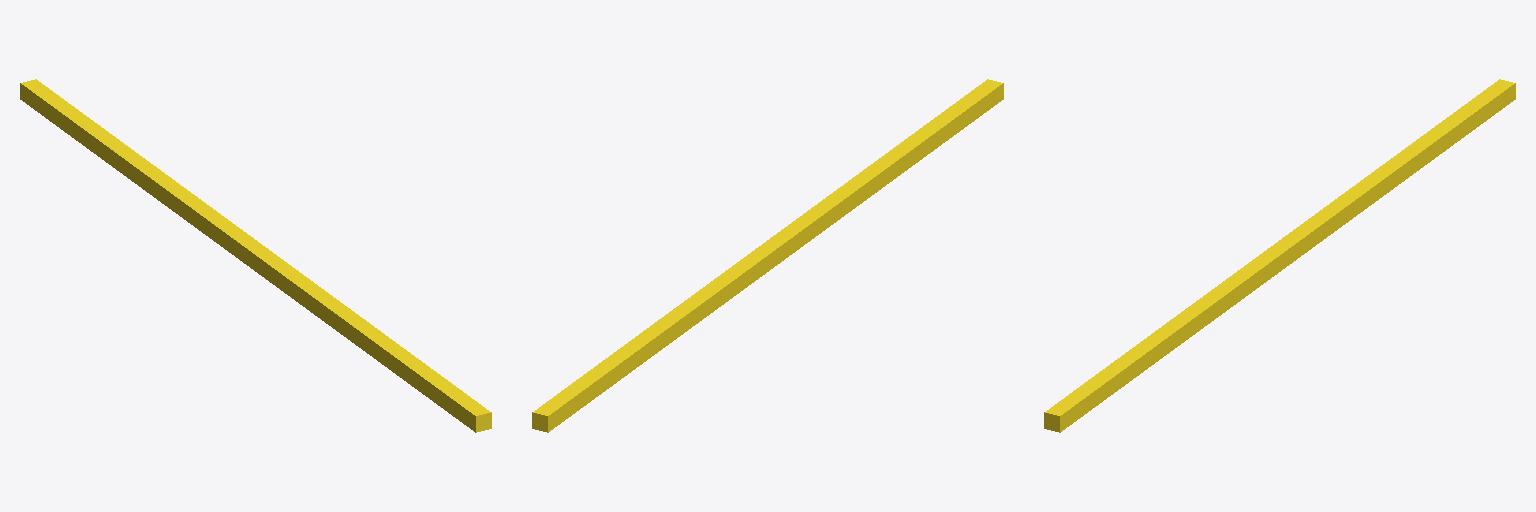
The robot description file, URDF, robot "urdf_robot":
<?xml version="1.0" ?>
<robot name="urdf_robot">
  <material name="yellow">
    <color rgba="1.0 0.9 0.2 1"/>
  </material>
  
  <link name="base_link">
    <inertial>
      <mass value="0"/>
      <inertia ixx="1" ixy="0" ixz="0" iyy="1" iyz="0" izz="1"/>
    </inertial>
    <visual>
      <geometry>
        <box size="0.05 2.5 0.05"/>
      </geometry>
      <material name="yellow"/>
    </visual>
  </link>
</robot>

--- Facts derived from the render (not from the file) ---
The picture shows the robot from 3 angles, left to right: view 1: azimuth 30°, elevation 25°; view 2: azimuth 150°, elevation 25°; view 3: azimuth 330°, elevation 25°; orthographic projection.
Robot: urdf_robot — 1 links, 0 joints (none); root link base_link; default pose: all joints at 0.
Links seen in each view (by area): view 1: base_link; view 2: base_link; view 3: base_link.
Boxes of the visible links, bbox=[...] form: base_link: bbox=[20, 79, 491, 432]; base_link: bbox=[532, 79, 1003, 432]; base_link: bbox=[1044, 79, 1515, 432].
Bounding box of the posed robot: 0.05 × 2.5 × 0.05 m (x, y, z).
Geometry: primitives only (box / cylinder / sphere), no mesh files.
